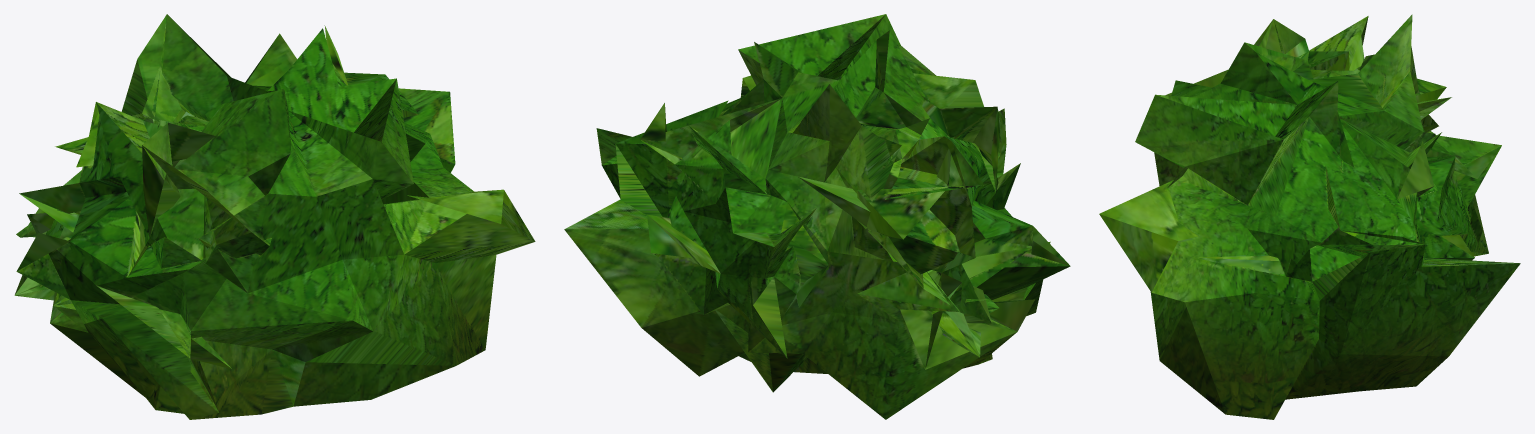
Rendered from grassBushes.glb.
3 views of the same model, side by side, from view 1: azimuth 30°, elevation 25°; view 2: azimuth 150°, elevation 25°; view 3: azimuth 270°, elevation 25° (orthographic). The views are drawn at different scales.
Parts seen in each view (by area): view 1: Cube; view 2: Cube; view 3: Cube.
Boxes of the visible parts, <box> form: Cube: <box>14,14,535,419</box>; Cube: <box>564,14,1070,419</box>; Cube: <box>1099,14,1520,419</box>.
Bounding box in the file's own units: 2.6 × 1.79 × 2.19.
1 material, 1 textured.
